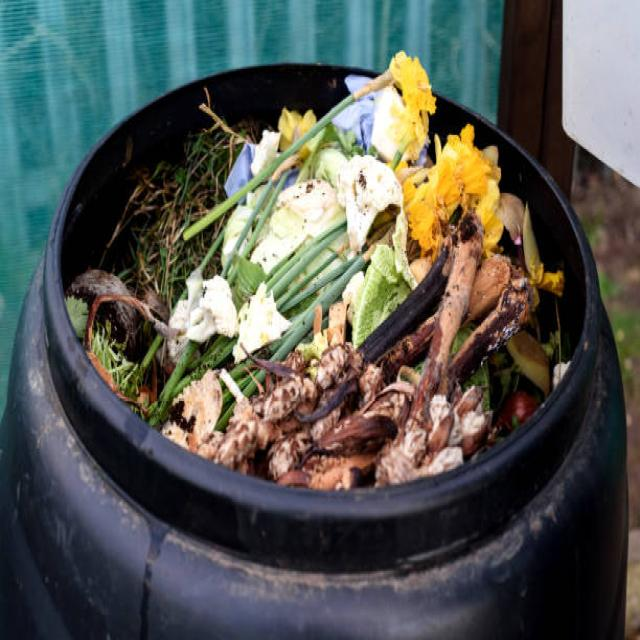Organic: (152, 53, 566, 454)
